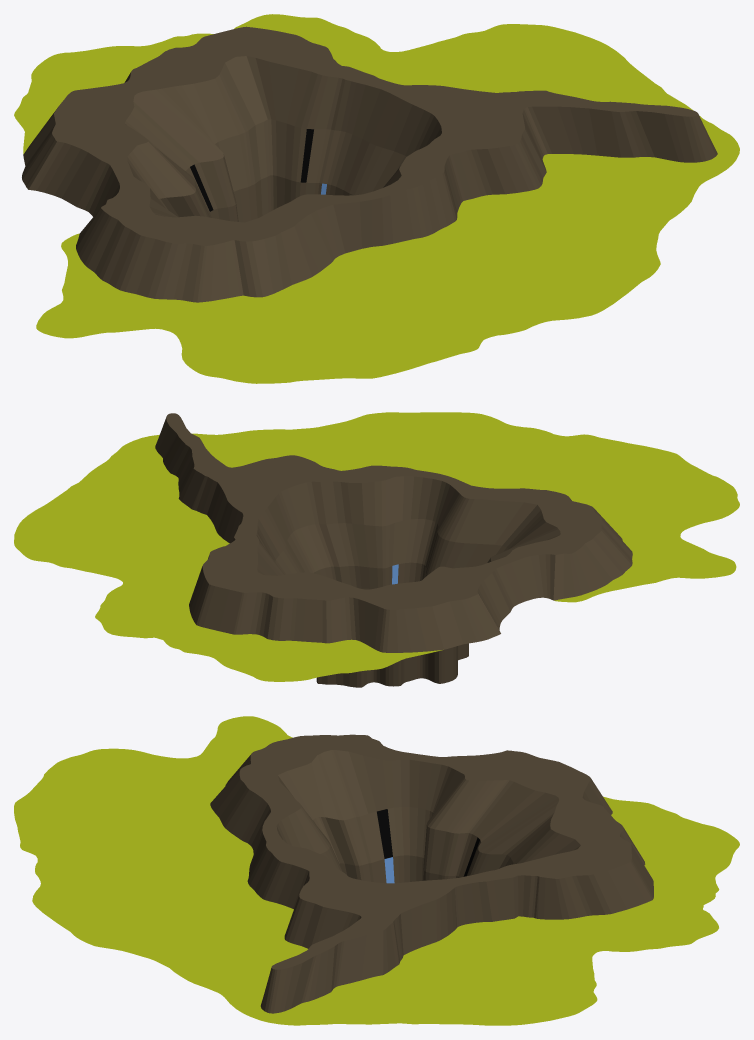
The model's file is Island Test.glb.
3 views of the same model, one above another, from view 1: azimuth 30°, elevation 25°; view 2: azimuth 150°, elevation 25°; view 3: azimuth 270°, elevation 25° (orthographic). The views are drawn at different scales.
Visible parts, largest first — view 1: Land; view 2: Land; view 3: Land.
Boxes of the visible parts, x1=… form: Land: x1=14, y1=14, x2=739, y2=383; Land: x1=14, y1=412, x2=739, y2=687; Land: x1=14, y1=716, x2=739, y2=1025.
Size of the model in its own units: 4517 by 1000 by 4477.
1 material, 1 textured.
